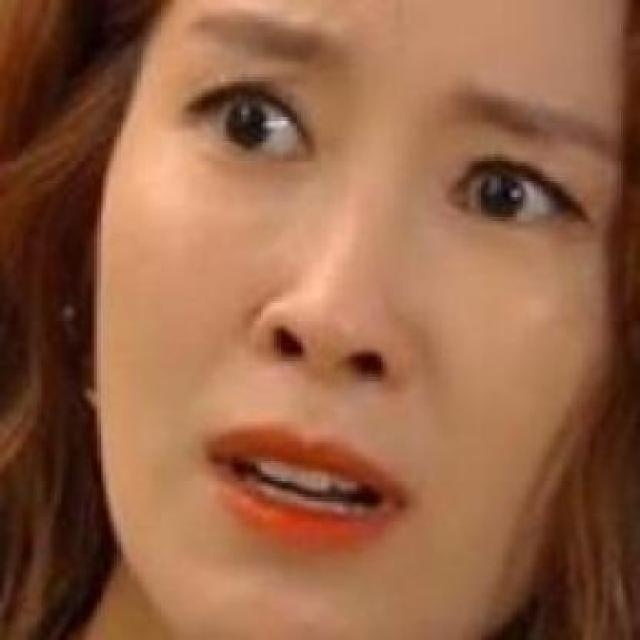angry: (84, 8, 607, 603)
